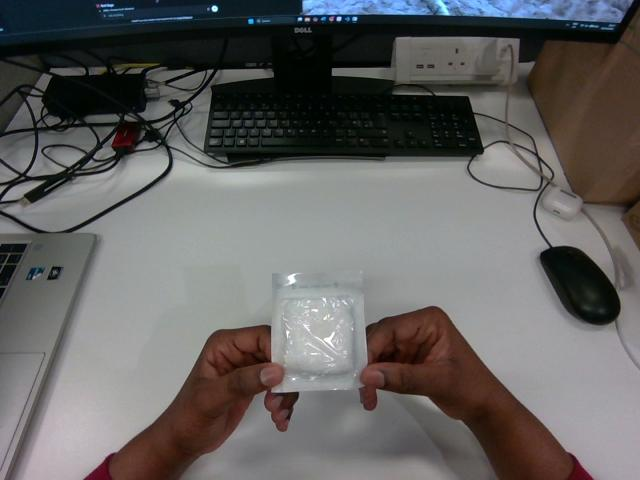gauze: (272, 272, 366, 392)
